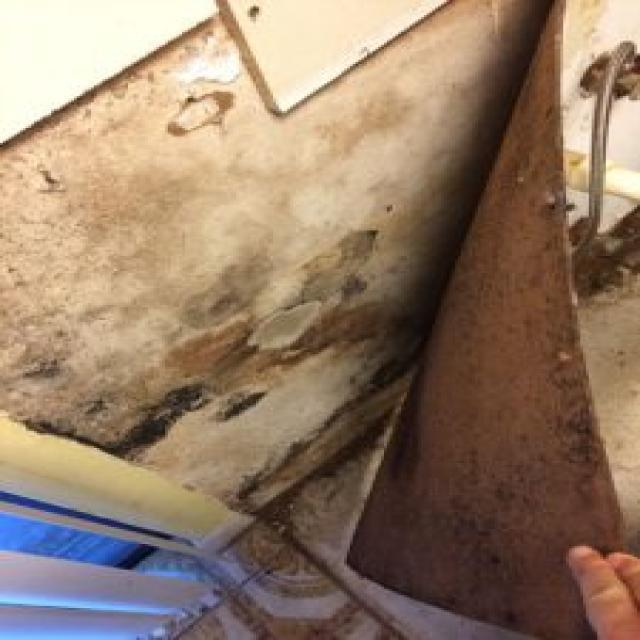dampness: (23, 183, 419, 417)
